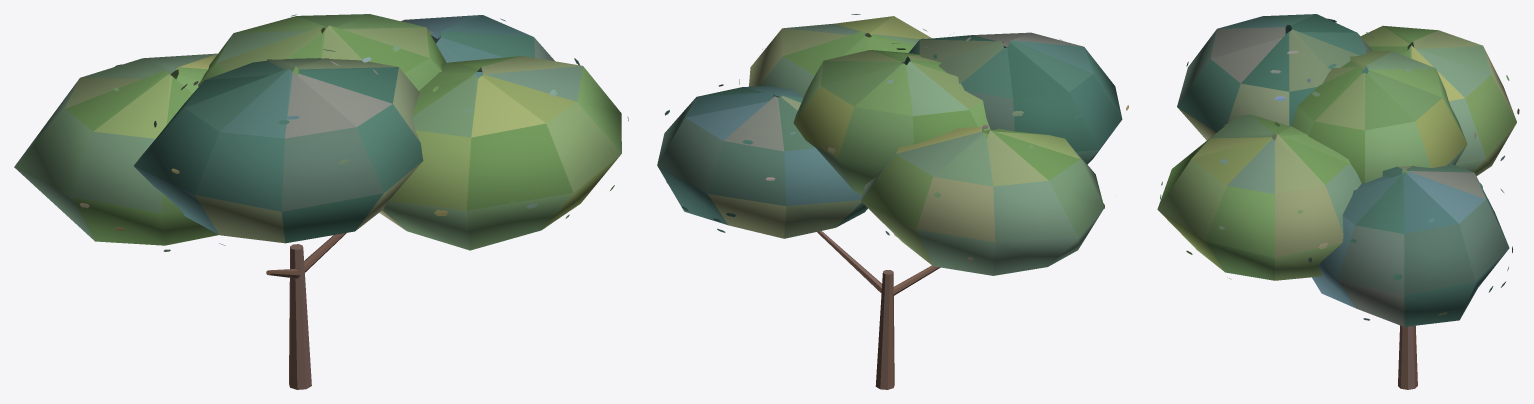
File: ART_CastleGrove.glb
The picture shows the model from 3 angles, left to right: view 1: azimuth 30°, elevation 25°; view 2: azimuth 150°, elevation 25°; view 3: azimuth 270°, elevation 25°; orthographic projection. The views are drawn at different scales.
Visible parts, largest first — view 1: ART_CastleGrove; view 2: ART_CastleGrove; view 3: ART_CastleGrove.
Boxes of the visible parts, <box> form: ART_CastleGrove: <box>14,14,628,389</box>; ART_CastleGrove: <box>657,14,1128,389</box>; ART_CastleGrove: <box>1157,14,1519,389</box>.
Size of the model in its own units: 14.43 by 10.06 by 10.08.
